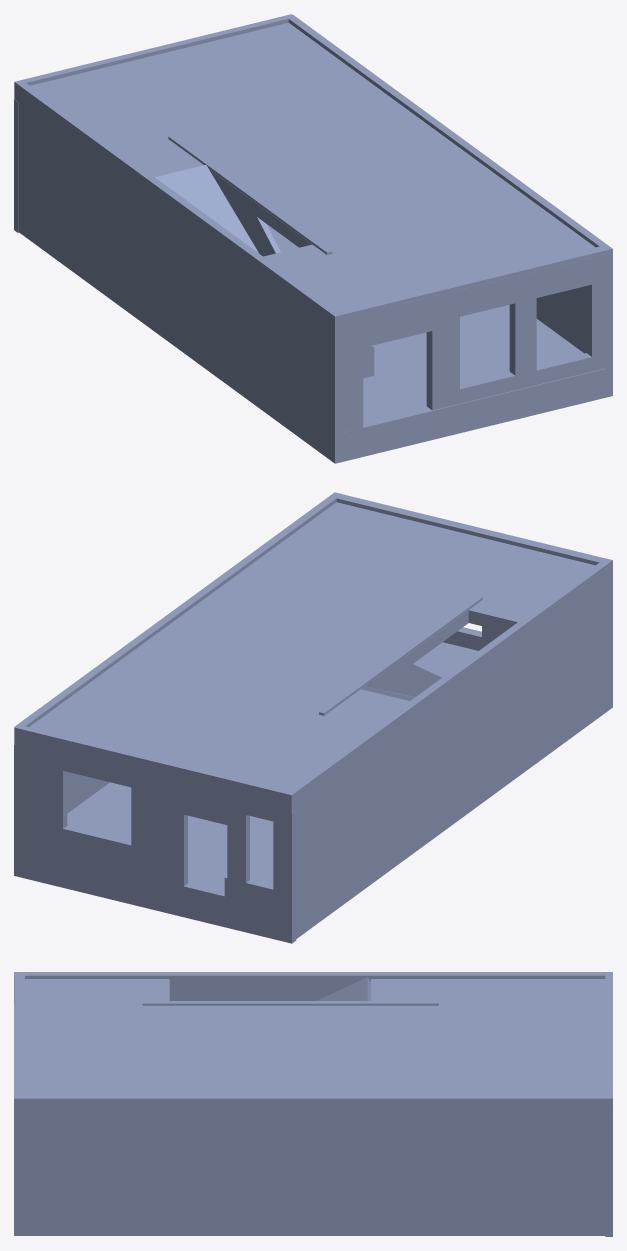
The model's file is HouseB_MainFloor_collision.fbx.
3 views of the same model, one above another, from view 1: azimuth 30°, elevation 25°; view 2: azimuth 150°, elevation 25°; view 3: azimuth 270°, elevation 25° (orthographic). The views are drawn at different scales.
Visible parts, largest first — view 1: HouseB_MainFloor_collision; view 2: HouseB_MainFloor_collision; view 3: HouseB_MainFloor_collision.
Boxes of the visible parts, <box> form: HouseB_MainFloor_collision: <box>14,14,612,463</box>; HouseB_MainFloor_collision: <box>14,492,612,943</box>; HouseB_MainFloor_collision: <box>14,972,612,1236</box>.
Bounding box in the file's own units: 1001 × 510 × 1999.
